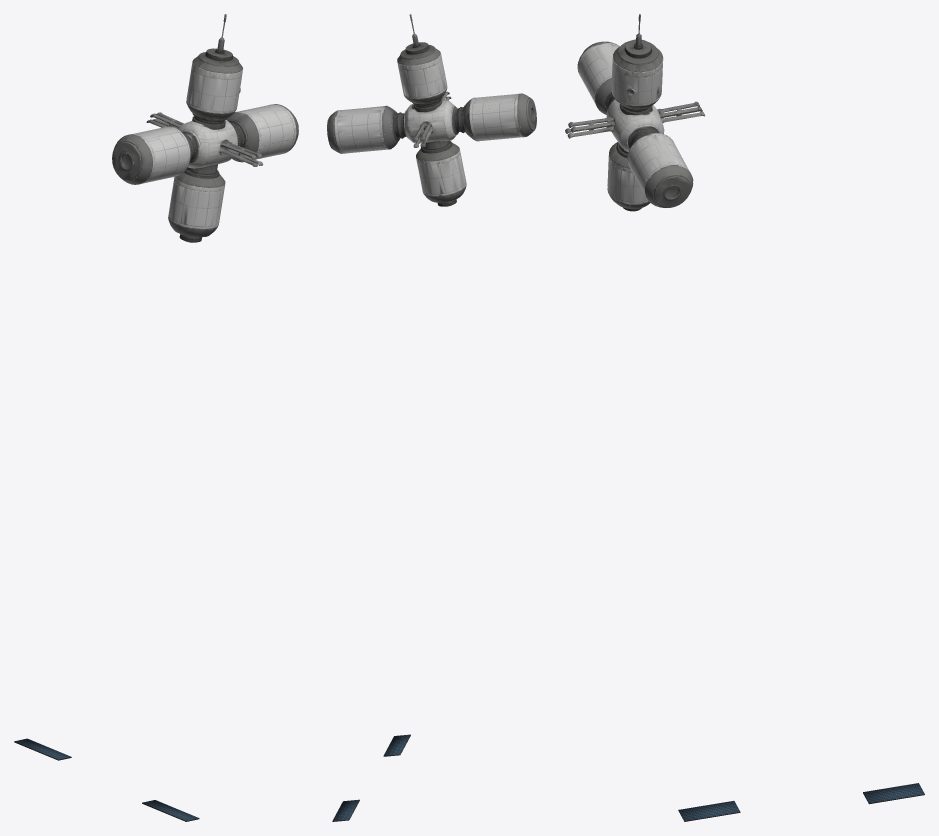
The model's file is space-station-web.glb.
3 views of the same model, side by side, from view 1: azimuth 30°, elevation 25°; view 2: azimuth 150°, elevation 25°; view 3: azimuth 270°, elevation 25° (orthographic). The views are drawn at different scales.
Visible parts, largest first — view 1: material; view 2: material; view 3: material, Plane.001, Plane.002.
Part boxes in pixels (x1=…): material: x1=112, y1=14, x2=298, y2=242; material: x1=327, y1=14, x2=536, y2=206; material: x1=565, y1=14, x2=705, y2=211; Plane.001: x1=678, y1=801, x2=740, y2=821; Plane.002: x1=863, y1=783, x2=924, y2=804.
Bounding box in the file's own units: 0.8261 × 3.12 × 1.26.
Materials: 3 (2 with a texture image).
